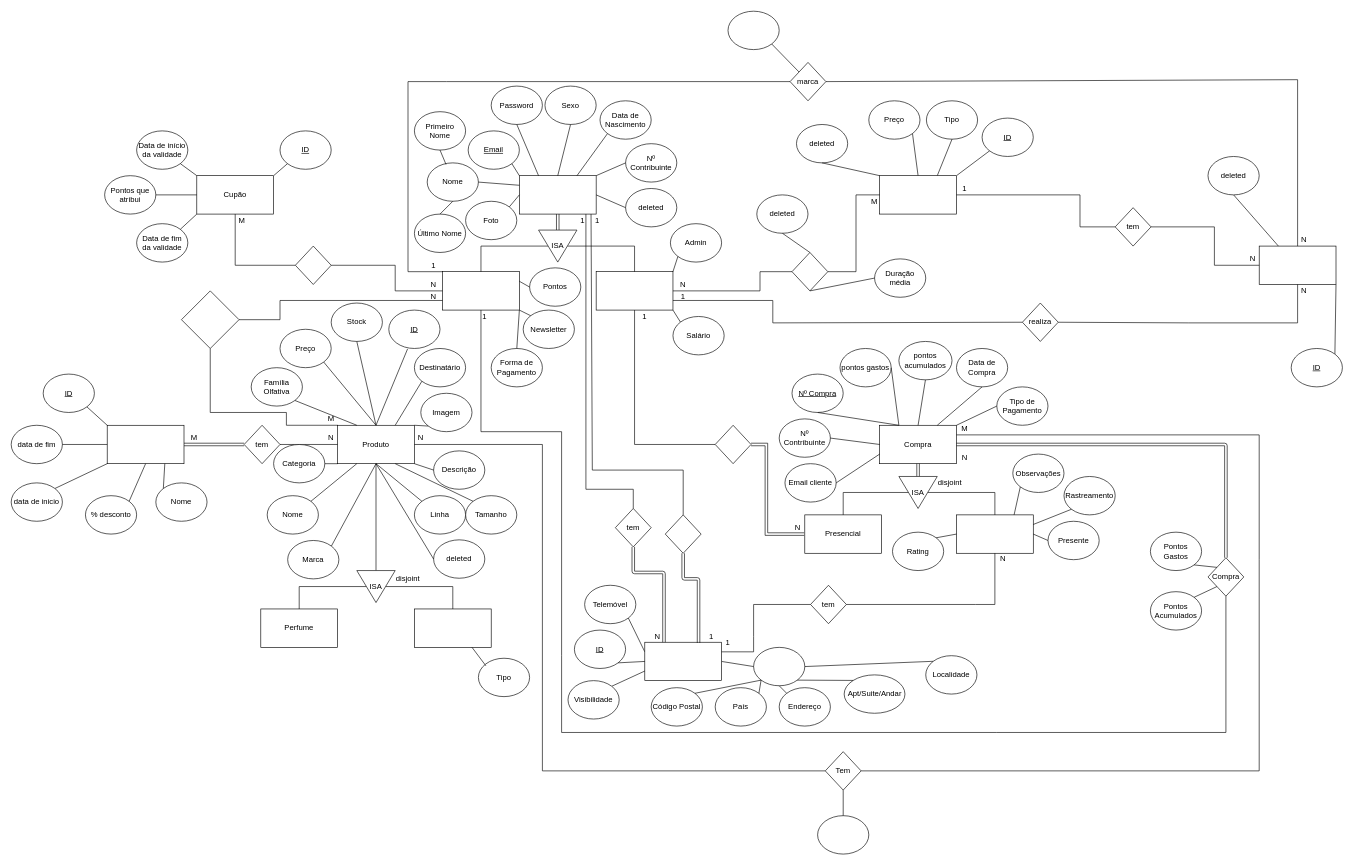
Some shapes in this 1354 by 865 pixel diagram are drawn without their labels. Each missing label, with the box of its shape:
Cliente: (442, 271, 519, 310)
Contactos: (644, 642, 722, 681)
Cosmética: (414, 608, 491, 647)
Data: (727, 11, 779, 50)
default: (665, 514, 701, 553)
faz: (791, 252, 828, 291)
Funcionário: (596, 271, 673, 310)
Marca como Favorito: (181, 290, 239, 348)
Marcação: (1259, 245, 1336, 284)
Morada: (753, 647, 805, 686)
Online: (956, 514, 1033, 553)
Promoção: (107, 425, 184, 464)
Serviço: (879, 175, 956, 214)
Super- visiona: (715, 425, 751, 464)
Unidades: (817, 815, 869, 854)
usa: (295, 245, 331, 284)
Utilizador: (519, 175, 596, 214)
